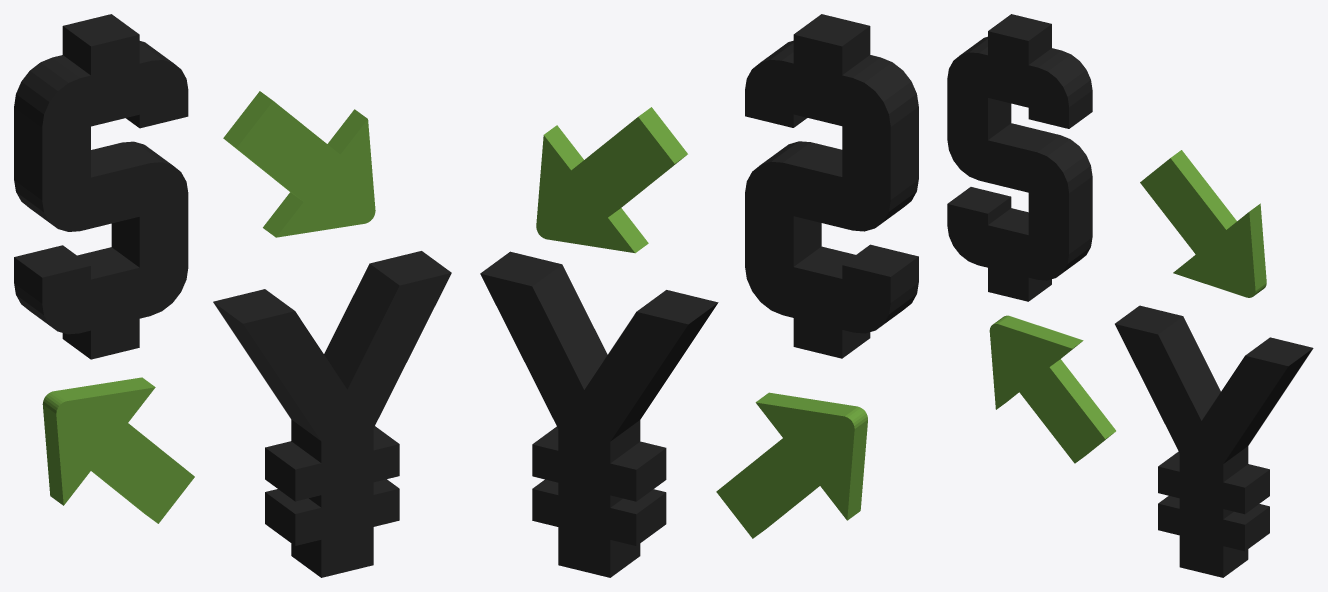
The model's file is currency_exchange.glb.
3 views of the same model, side by side, from view 1: azimuth 30°, elevation 25°; view 2: azimuth 150°, elevation 25°; view 3: azimuth 330°, elevation 25° (orthographic). The views are drawn at different scales.
Parts seen in each view (by area): view 1: Cube.6454; view 2: Cube.6454; view 3: Cube.6454.
Part boxes in pixels (x1,y1,x2,y2): Cube.6454: [14, 14, 451, 577]; Cube.6454: [480, 14, 918, 577]; Cube.6454: [947, 14, 1313, 577].
Size of the model in its own units: 1.55 by 2.13 by 0.2094.
Materials: 1 (1 with a texture image).
